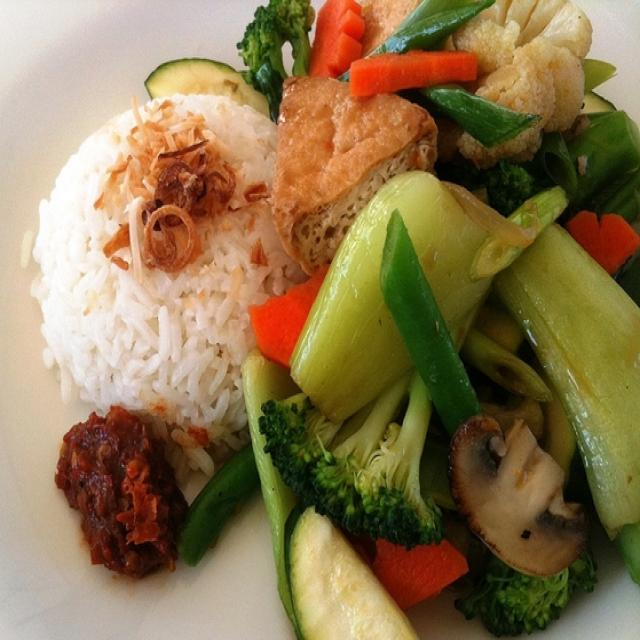米饭主食: (17, 13, 624, 616)
